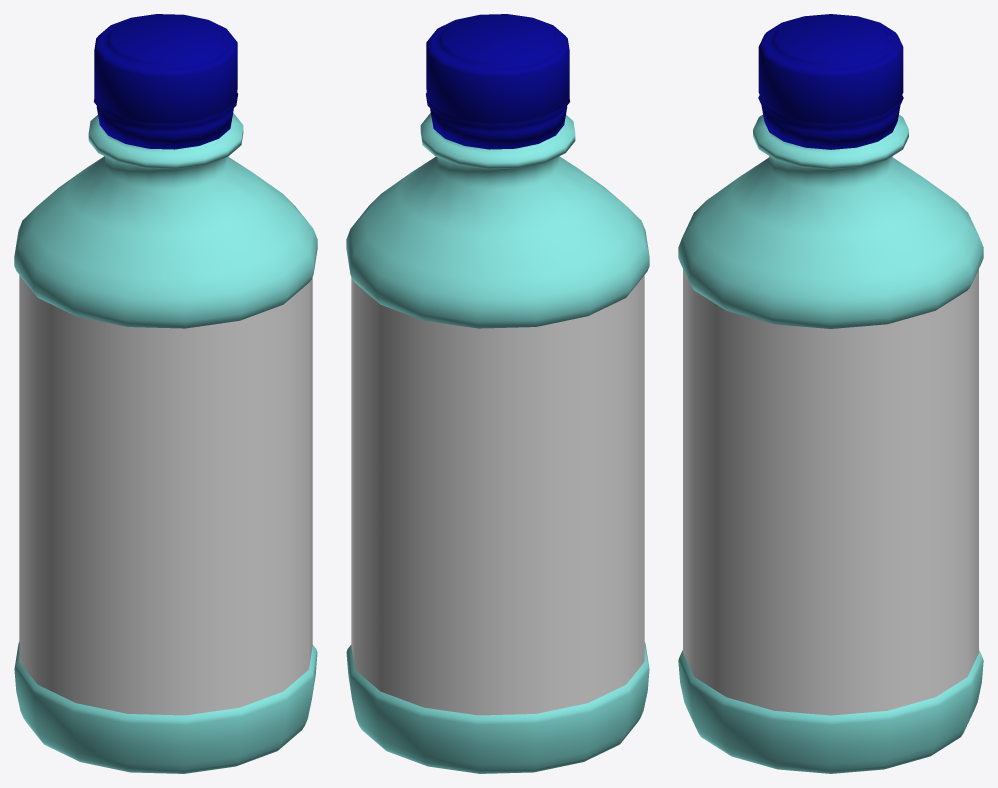
File: bottleMed.glb
The picture shows the model from 3 angles, left to right: view 1: azimuth 30°, elevation 25°; view 2: azimuth 150°, elevation 25°; view 3: azimuth 270°, elevation 25°; orthographic projection.
Visible parts, largest first — view 1: bottleLabel, bottleBody, bottleCap; view 2: bottleLabel, bottleBody, bottleCap; view 3: bottleLabel, bottleBody, bottleCap.
Boxes of the visible parts, bbox=[...] form: bottleLabel: bbox=[19, 275, 312, 715]; bottleBody: bbox=[14, 113, 317, 773]; bottleCap: bbox=[93, 14, 237, 149]; bottleLabel: bbox=[351, 275, 644, 715]; bottleBody: bbox=[346, 113, 649, 773]; bottleCap: bbox=[426, 14, 570, 149]; bottleLabel: bbox=[683, 269, 978, 715]; bottleBody: bbox=[678, 115, 983, 773]; bottleCap: bbox=[758, 14, 903, 149].
Bounding box in the file's own units: 1.27 × 3.11 × 1.27.
